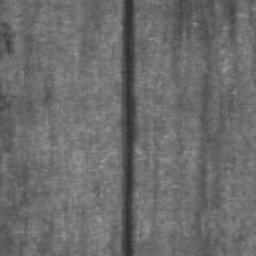Scratches: (122, 0, 136, 256)
